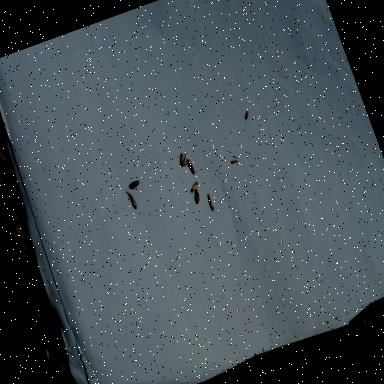pbw: (126, 186, 138, 210), (180, 148, 192, 166), (206, 193, 216, 211), (186, 158, 196, 176), (191, 188, 202, 204), (128, 179, 142, 190), (178, 152, 188, 167), (188, 180, 200, 192), (230, 156, 240, 164), (244, 110, 252, 119)
